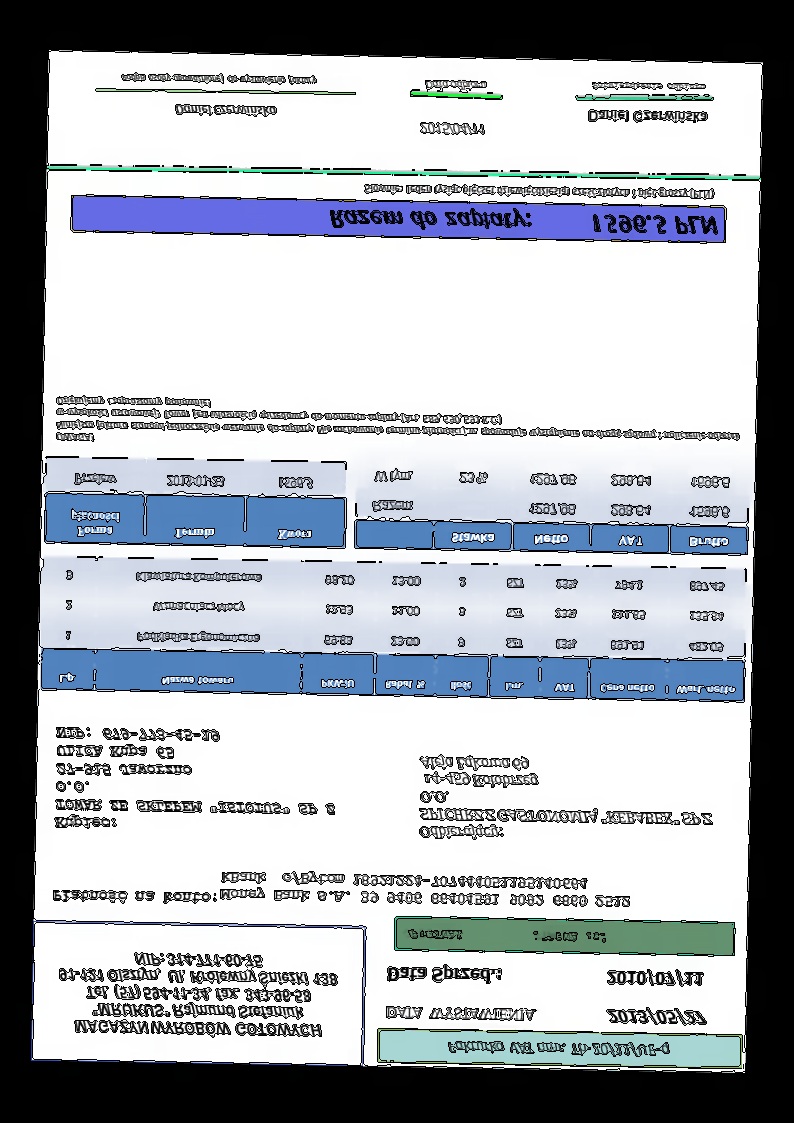Table: (38, 551, 752, 704), (354, 453, 751, 558), (44, 455, 348, 550)
TextBox: (51, 390, 743, 456), (51, 724, 340, 835), (416, 752, 716, 847), (53, 946, 344, 1040), (219, 870, 633, 910), (324, 204, 721, 240), (360, 181, 717, 204), (443, 1035, 673, 1060), (402, 926, 610, 948), (383, 1001, 541, 1026), (118, 69, 319, 88), (48, 887, 221, 908), (384, 963, 504, 987), (585, 105, 709, 126), (603, 966, 707, 990), (600, 1006, 709, 1028), (587, 80, 709, 95), (172, 103, 278, 120), (416, 121, 486, 138), (422, 79, 489, 92)
